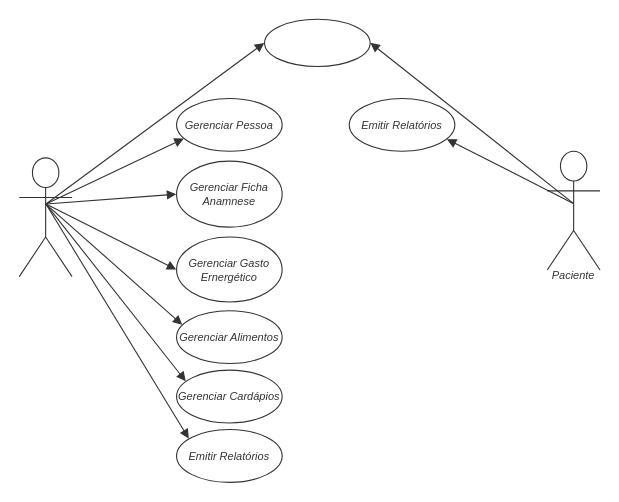
This 619x502 diagram has some shape labels left out. Each missing label, with the centre of its shape:
Efetuar Login: point 316,42
Nutricionista: point 45,217
